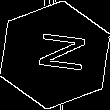N_W: (25, 32, 85, 78)
